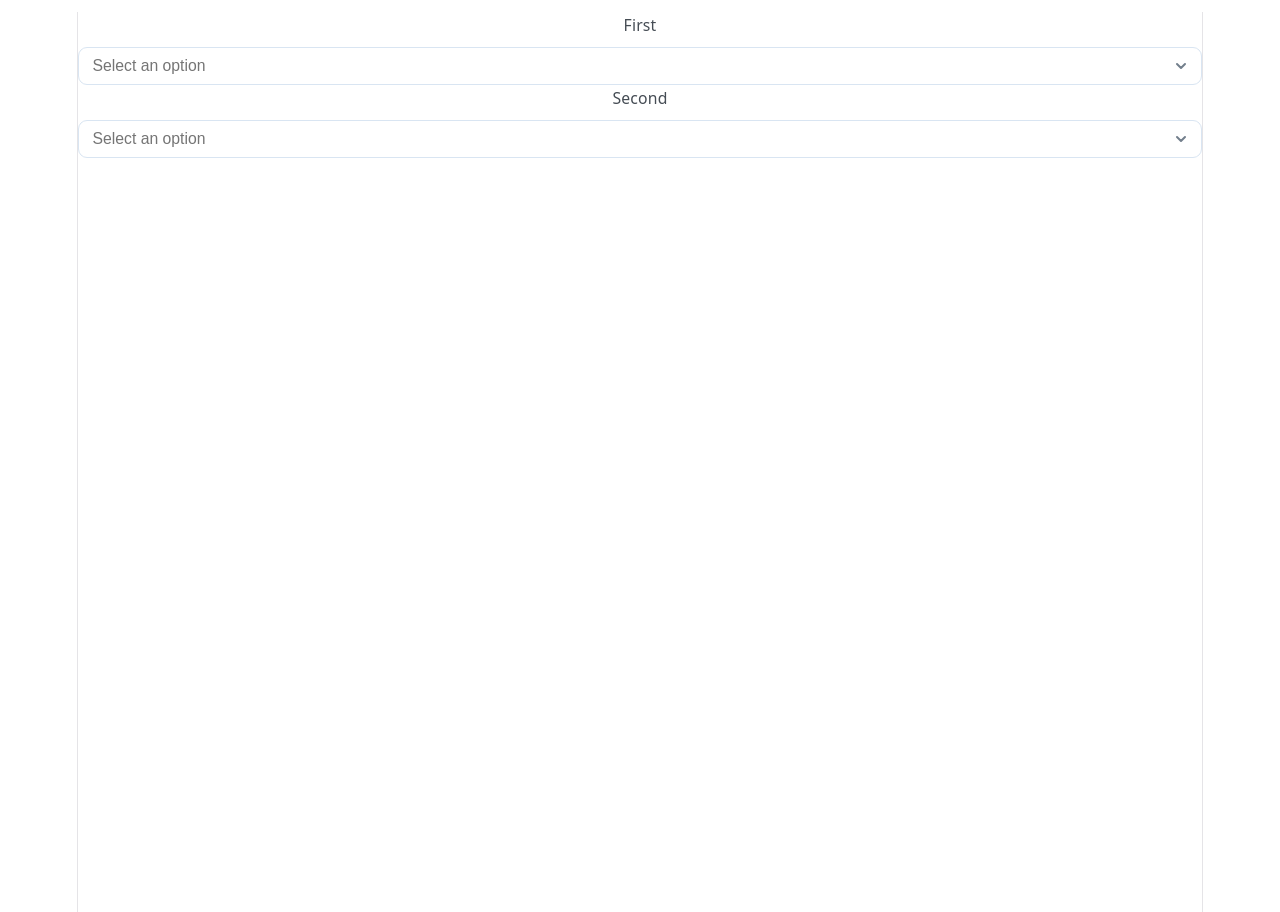
Combobox › does not share selection state between two independently rendered comboboxes
Click the 1st button named "Toggle suggestions" at (1180, 66), box [1168,54,1193,79]
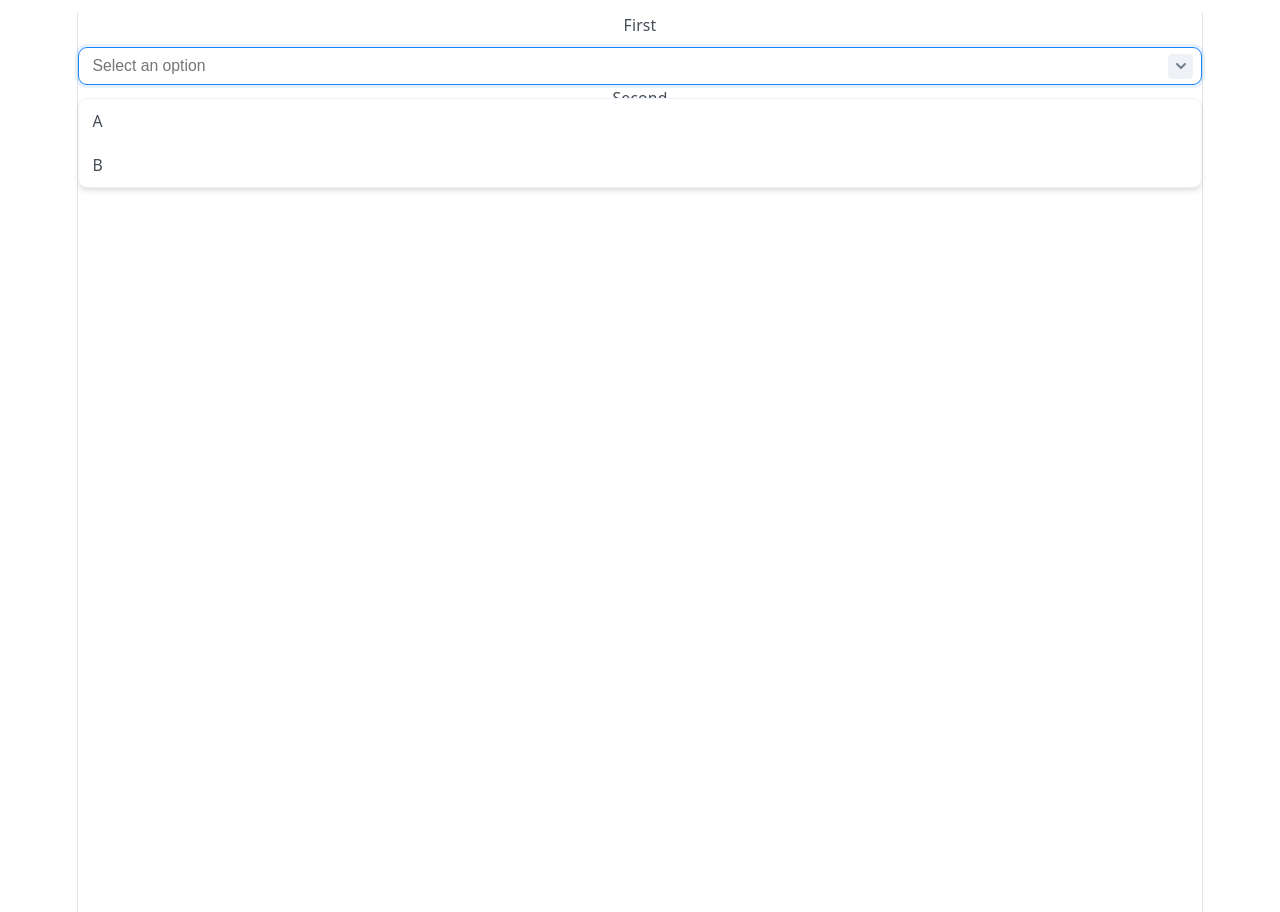
Click the option "A" at (98, 120), box [92,110,103,132]
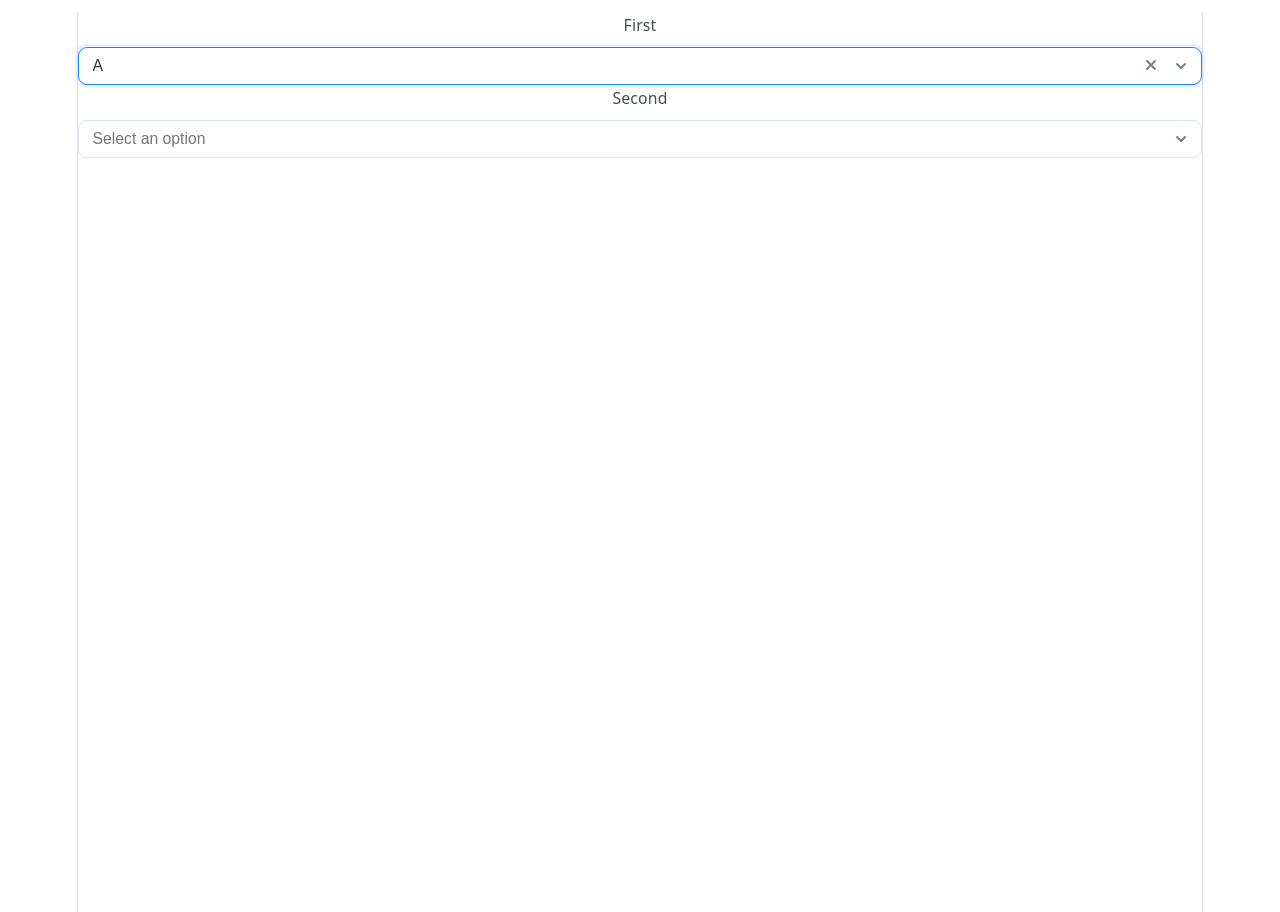
Expected: the dropdown labelled "Second" is empty, [78,120,1202,158]
Expected: the dropdown labelled "First" holds "A", [78,47,1202,85]
